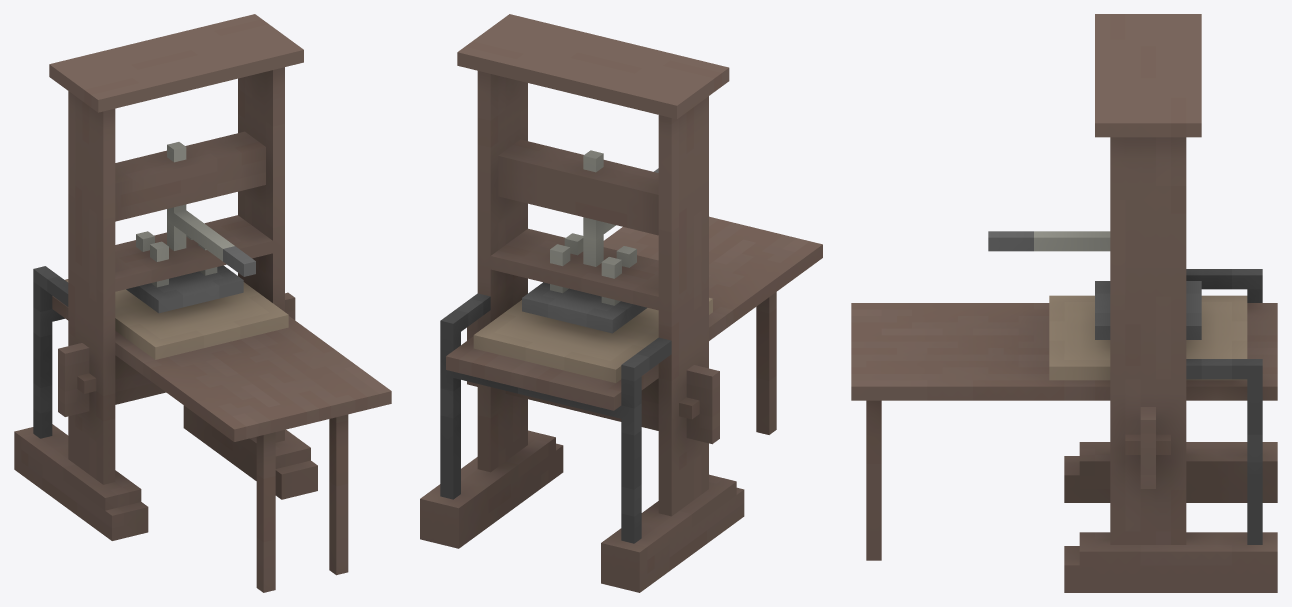
File: prensa-transformed.glb
The picture shows the model from 3 angles, left to right: view 1: azimuth 30°, elevation 25°; view 2: azimuth 150°, elevation 25°; view 3: azimuth 270°, elevation 25°; orthographic projection. The views are drawn at different scales.
Visible parts, largest first — view 1: Object_2; view 2: Object_2; view 3: Object_2.
Boxes of the visible parts, <box> form: Object_2: <box>14,14,391,592</box>; Object_2: <box>420,14,822,592</box>; Object_2: <box>851,14,1277,592</box>.
Bounding box in the file's own units: 19 × 34 × 28.
